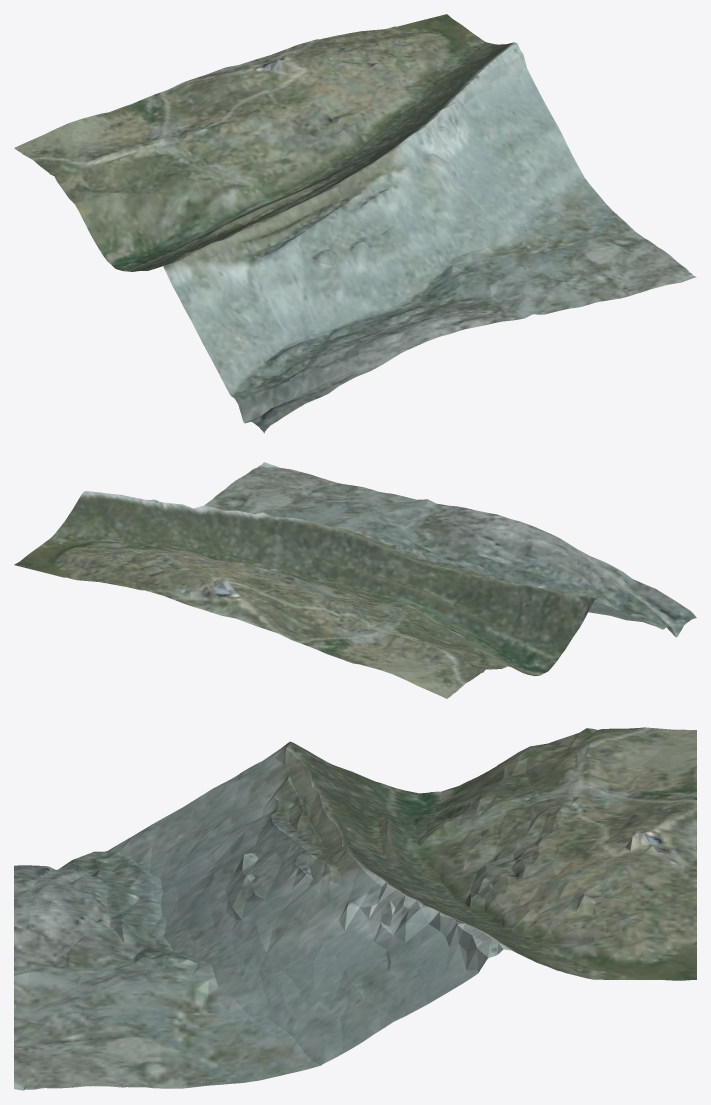
3 views of the same model, one above another, from view 1: azimuth 30°, elevation 25°; view 2: azimuth 150°, elevation 25°; view 3: azimuth 270°, elevation 25° (orthographic). The views are drawn at different scales.
Parts seen in each view (by area): view 1: Plane; view 2: Plane; view 3: Plane.
Part boxes in pixels (<box>): Plane: <box>14,14,696,433</box>; Plane: <box>14,462,696,698</box>; Plane: <box>14,727,696,1090</box>.
Bounding box in the file's own units: 0.6 × 0.2085 × 0.6.
1 material, 1 textured.
